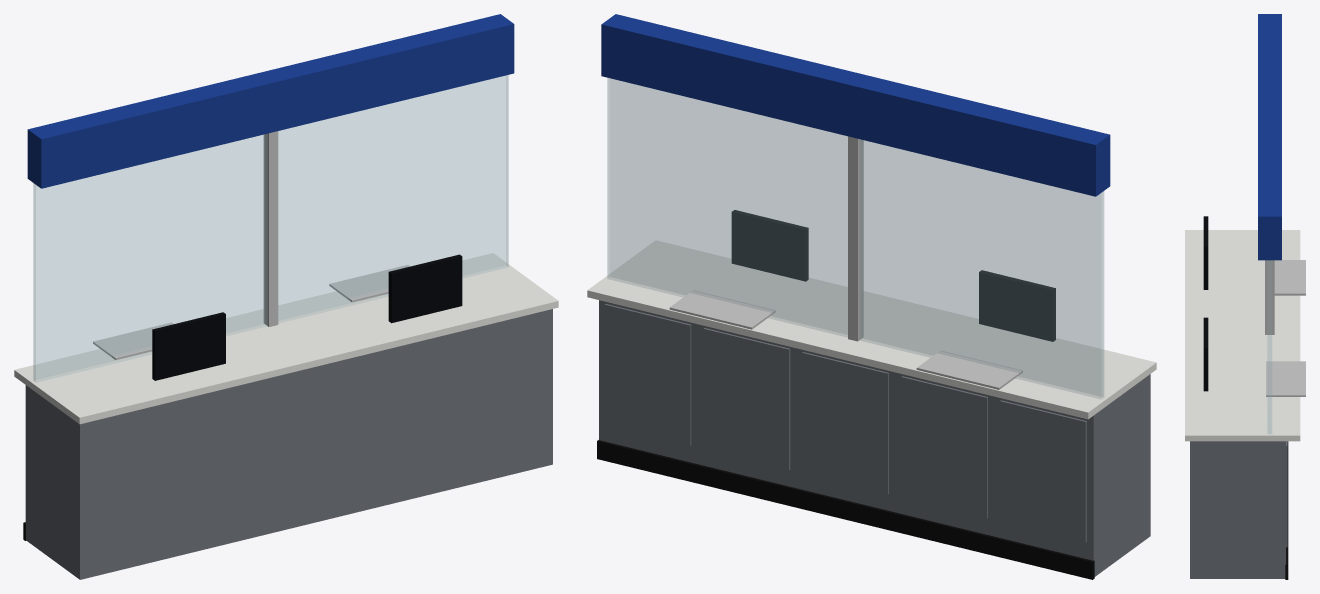
Rendered from station.rail.ticket_office.glb.
3 views of the same model, side by side, from view 1: azimuth 30°, elevation 25°; view 2: azimuth 150°, elevation 25°; view 3: azimuth 270°, elevation 25° (orthographic). The views are drawn at different scales.
Visible parts, largest first — view 1: main__glass, main__laminate_grey, main__plastic_blue, main__laminate_white, main__screen, main__steel_stainless; view 2: main__glass, main__laminate_grey, main__plastic_blue, main__laminate_white, main__plastic_black, main__screen, main__steel_stainless; view 3: main__laminate_white, main__laminate_grey, main__plastic_blue, main__steel_stainless, main__screen, main__glass, main__plastic_black.
Boxes of the visible parts, x1=… form: main__glass: x1=33, y1=75, x2=508, y2=382; main__laminate_grey: x1=25, y1=309, x2=552, y2=579; main__plastic_blue: x1=27, y1=14, x2=514, y2=188; main__laminate_white: x1=14, y1=253, x2=558, y2=424; main__screen: x1=152, y1=254, x2=462, y2=380; main__steel_stainless: x1=93, y1=131, x2=409, y2=359; main__glass: x1=607, y1=78, x2=1103, y2=398; main__laminate_grey: x1=599, y1=300, x2=1150, y2=576; main__plastic_blue: x1=601, y1=14, x2=1110, y2=196; main__laminate_white: x1=587, y1=240, x2=1156, y2=419; main__plastic_black: x1=597, y1=440, x2=1094, y2=579; main__screen: x1=731, y1=210, x2=1055, y2=341; main__steel_stainless: x1=669, y1=136, x2=1022, y2=389; main__laminate_white: x1=1185, y1=230, x2=1300, y2=441; main__laminate_grey: x1=1190, y1=441, x2=1287, y2=578; main__plastic_blue: x1=1258, y1=14, x2=1281, y2=260; main__steel_stainless: x1=1265, y1=260, x2=1305, y2=396; main__screen: x1=1203, y1=216, x2=1208, y2=391; main__glass: x1=1267, y1=260, x2=1271, y2=433; main__plastic_black: x1=1285, y1=441, x2=1288, y2=579.
Size of the model in its own units: 3.04 by 2.5 by 0.755.
